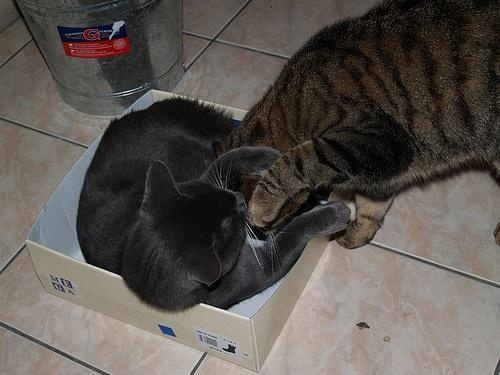cat: (211, 1, 500, 250), (76, 97, 353, 315)
